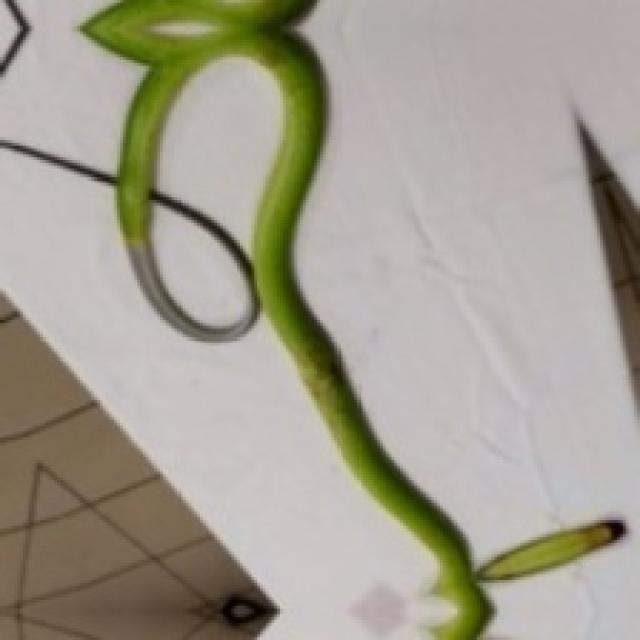red-tailed green ratsnake: (83, 0, 620, 637), (0, 0, 492, 639)
